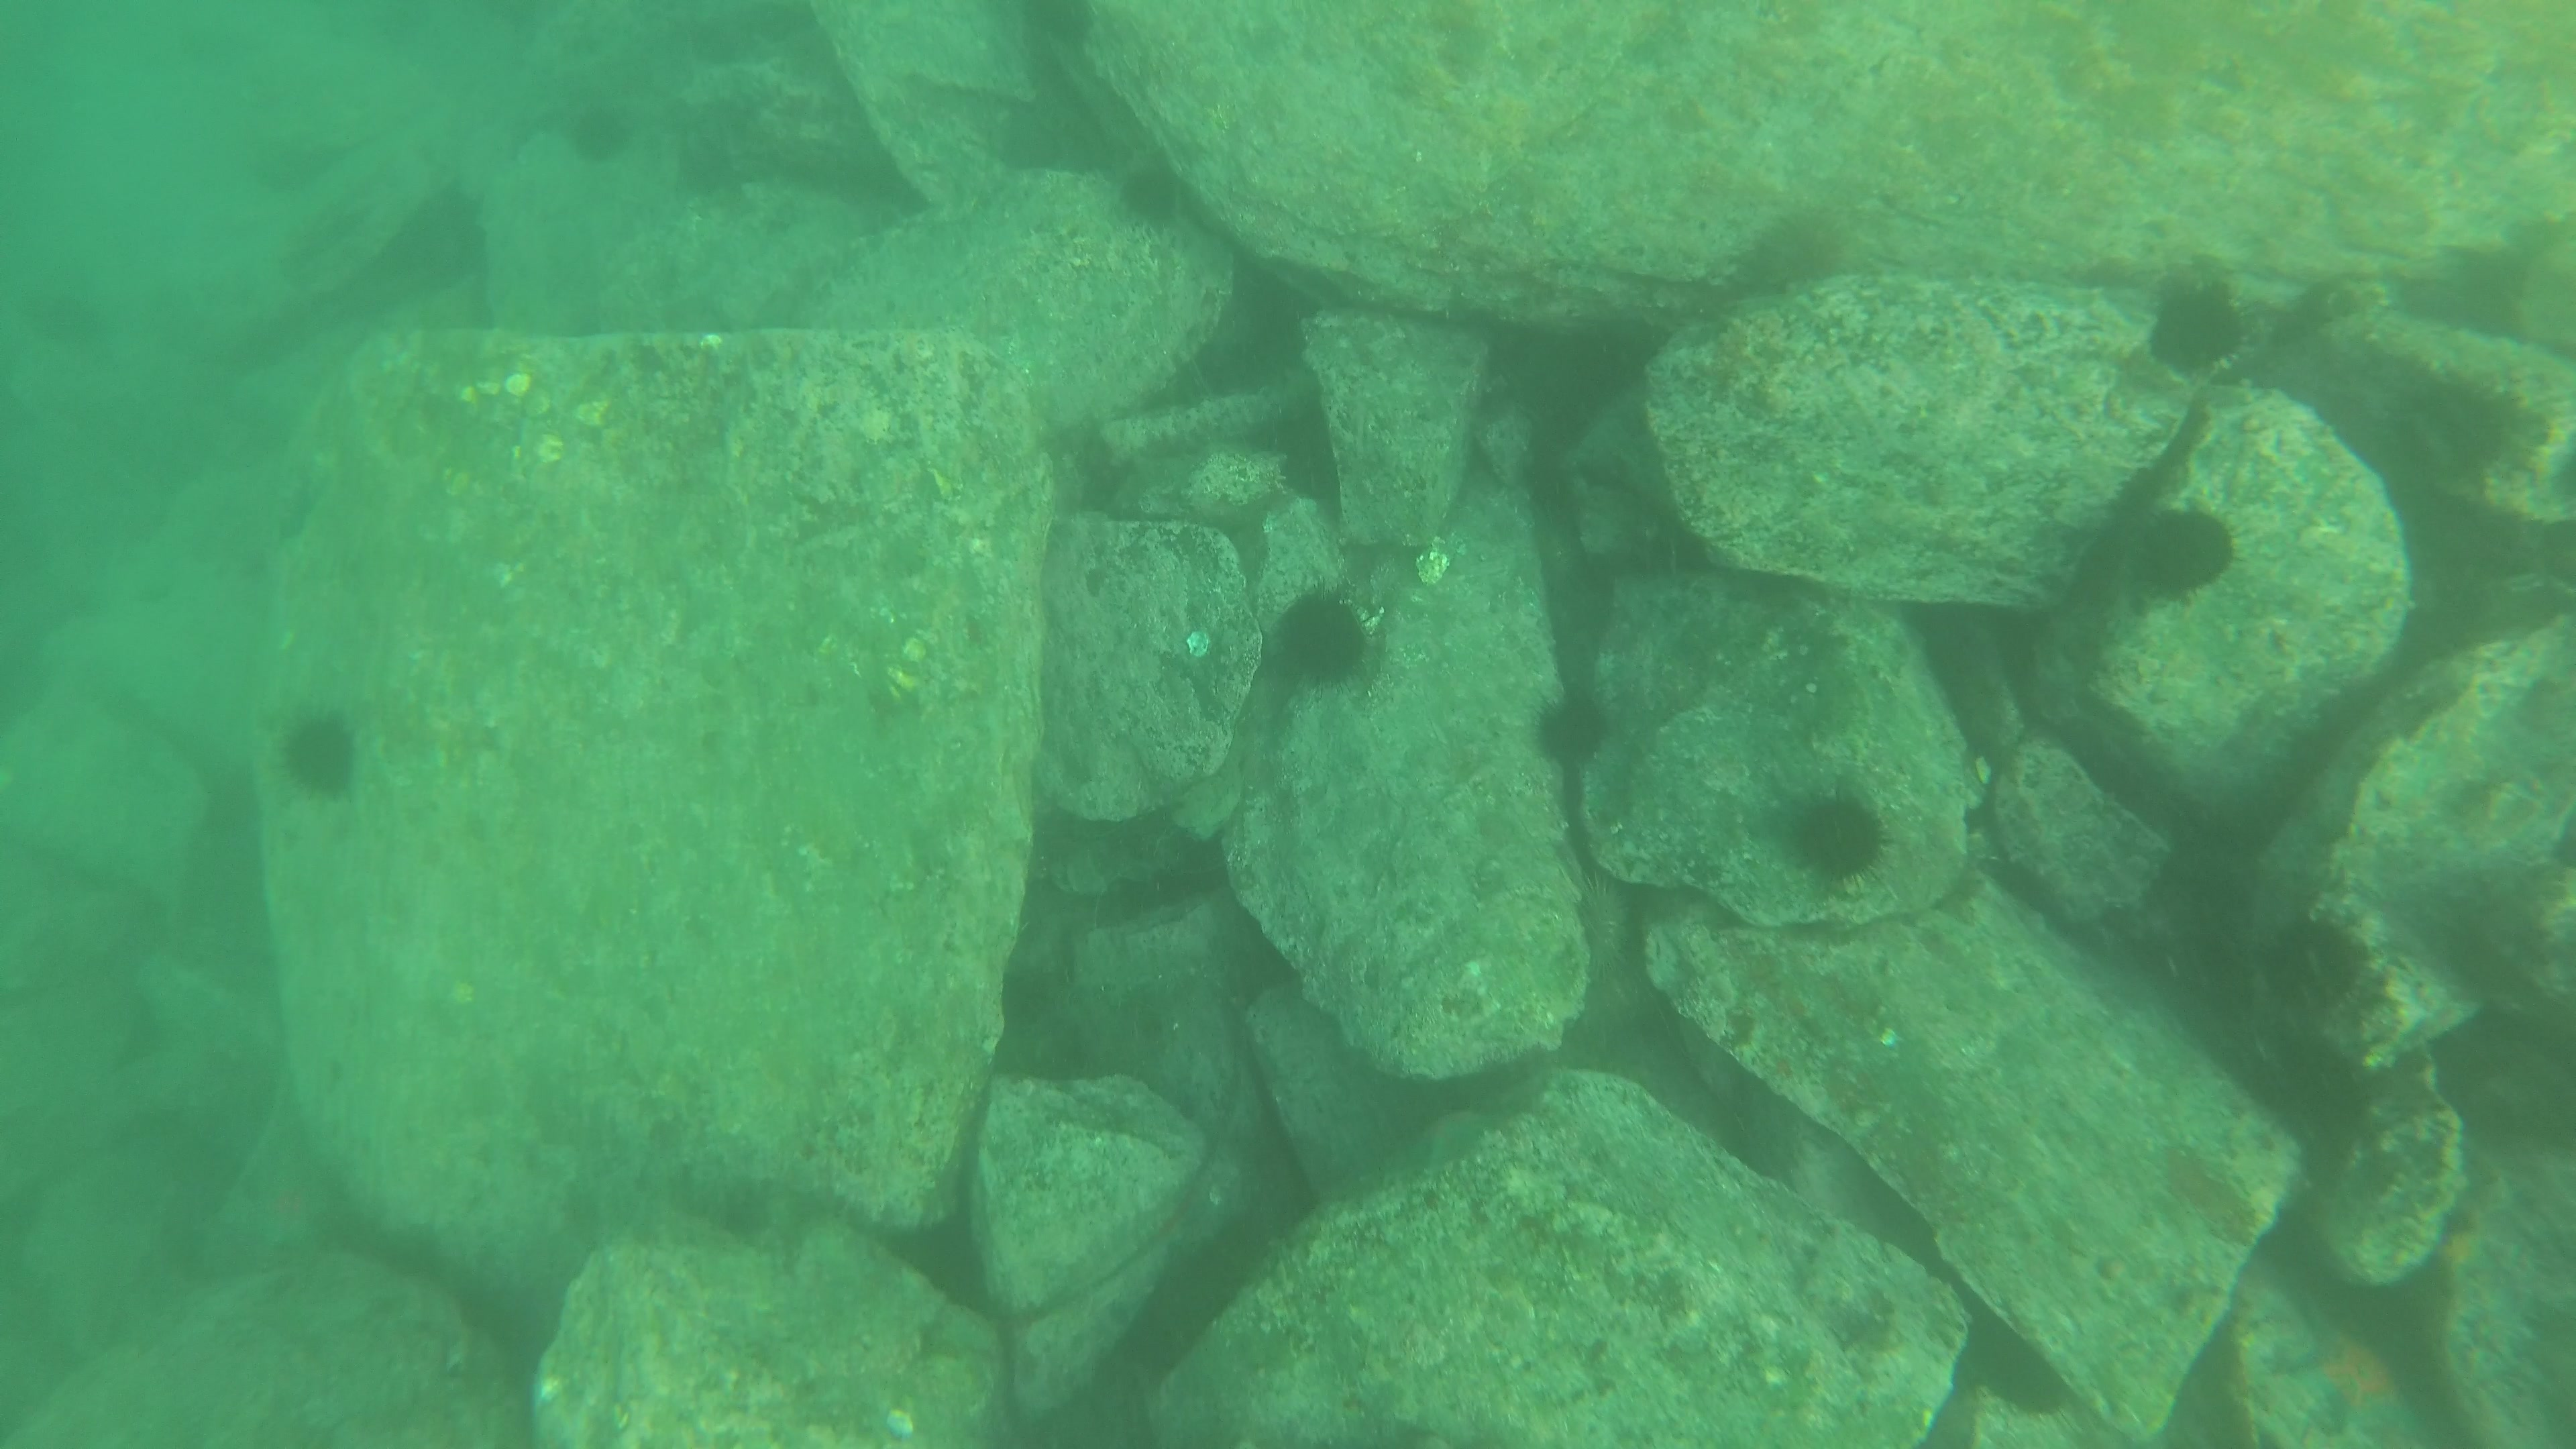echinus: (1730, 211, 1847, 313), (1277, 580, 1385, 686), (2144, 499, 2245, 607), (2270, 913, 2378, 1012), (2153, 283, 2249, 377), (1794, 791, 1893, 879), (274, 702, 352, 801), (1532, 692, 1615, 755), (1122, 165, 1185, 228), (570, 104, 628, 157)
starfish: (2277, 1316, 2426, 1437), (2431, 1224, 2500, 1286)
